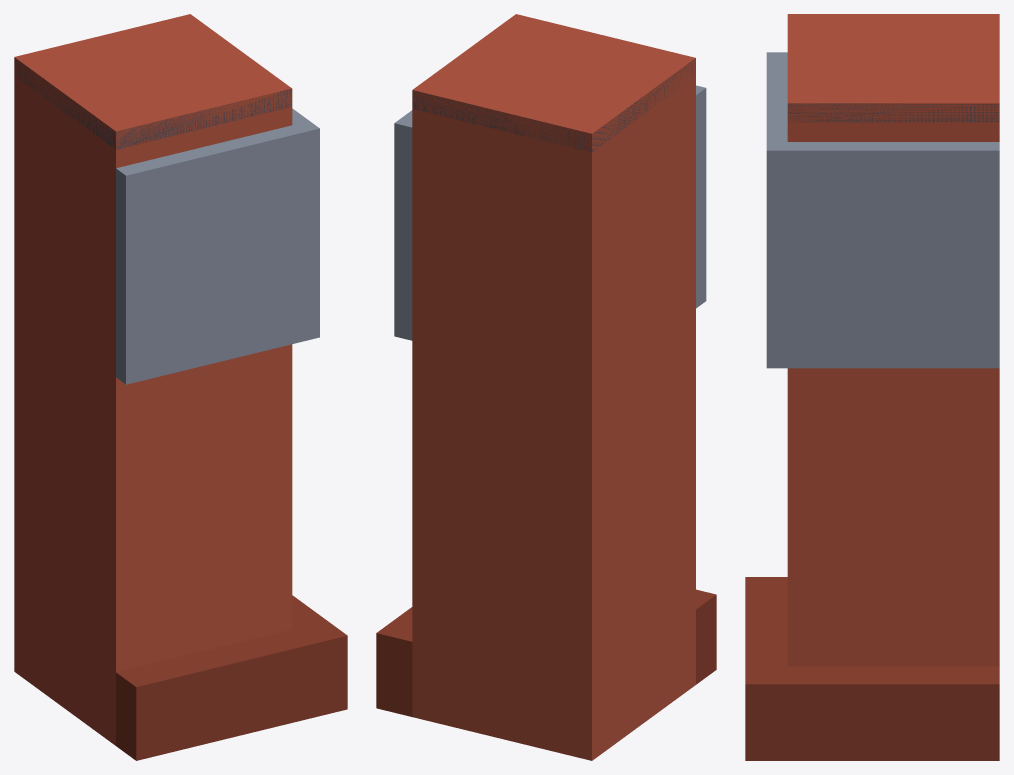
File: wall-corner.glb
3 renders of one model, left to right at view 1: azimuth 30°, elevation 25°; view 2: azimuth 150°, elevation 25°; view 3: azimuth 270°, elevation 25°, orthographic. The views are drawn at different scales.
Parts seen in each view (by area): view 1: wall-corner; view 2: wall-corner; view 3: wall-corner.
Boxes of the visible parts, x1,y1,x2,y2 form: wall-corner: (14, 14, 347, 760); wall-corner: (376, 14, 716, 760); wall-corner: (745, 14, 999, 760).
Bounding box in the file's own units: 0.18 × 0.5 × 0.18.
Materials: 1 (1 with a texture image).
